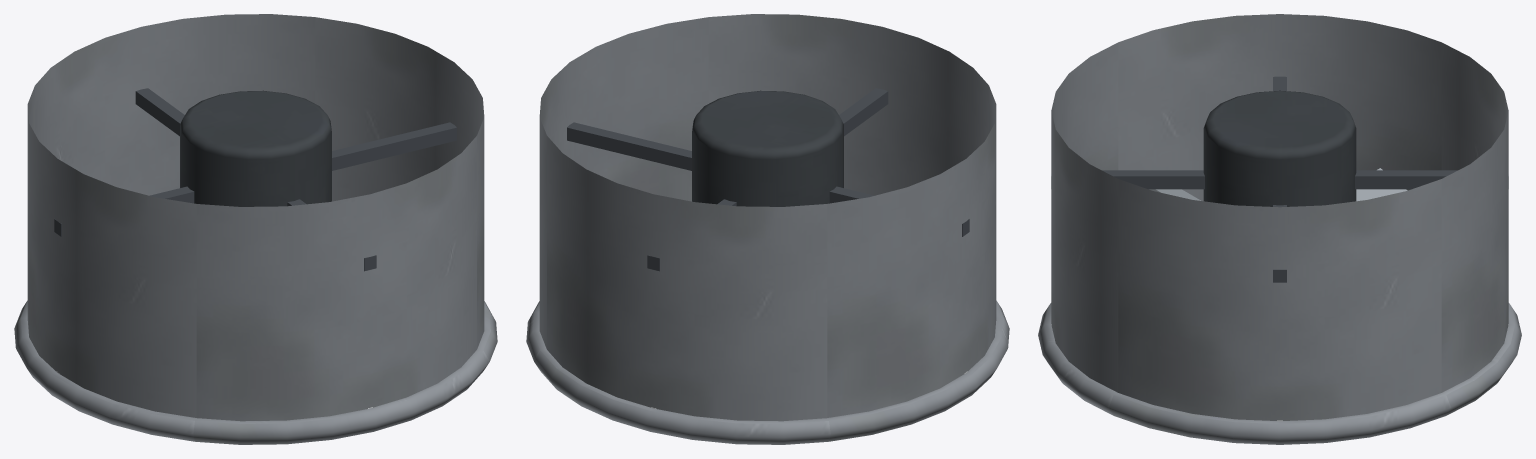
File: DuctFan.glb
3 renders of one model, left to right at view 1: azimuth 30°, elevation 25°; view 2: azimuth 150°, elevation 25°; view 3: azimuth 270°, elevation 25°, orthographic.
Visible parts, largest first — view 1: DuctFan_Body; view 2: DuctFan_Body; view 3: DuctFan_Body, DuctFan_Fan.
Part boxes in pixels (x1,y1,x2,y2): DuctFan_Body: (14,14,497,444); DuctFan_Body: (526,14,1009,444); DuctFan_Body: (1038,14,1521,444); DuctFan_Fan: (1149,168,1407,201).
Size of the model in its own units: 0.508 by 0.2721 by 0.508.
5 materials, 2 textured.
